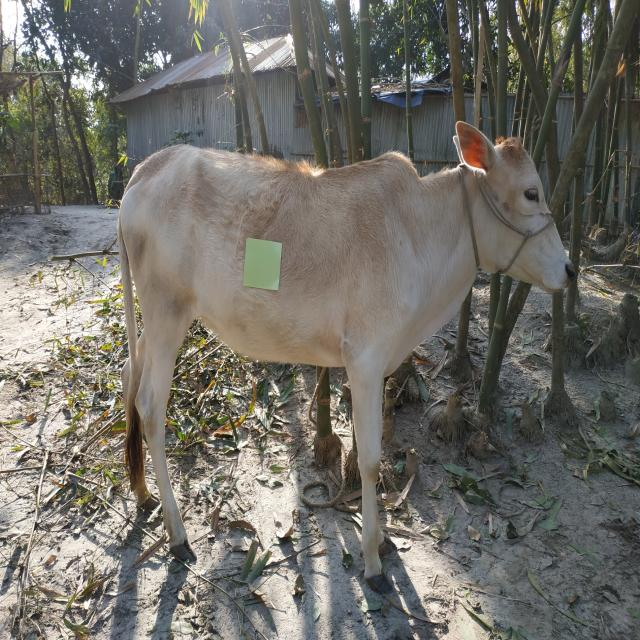badan_sapi: (139, 159, 391, 370)
sapi: (108, 116, 580, 599)
